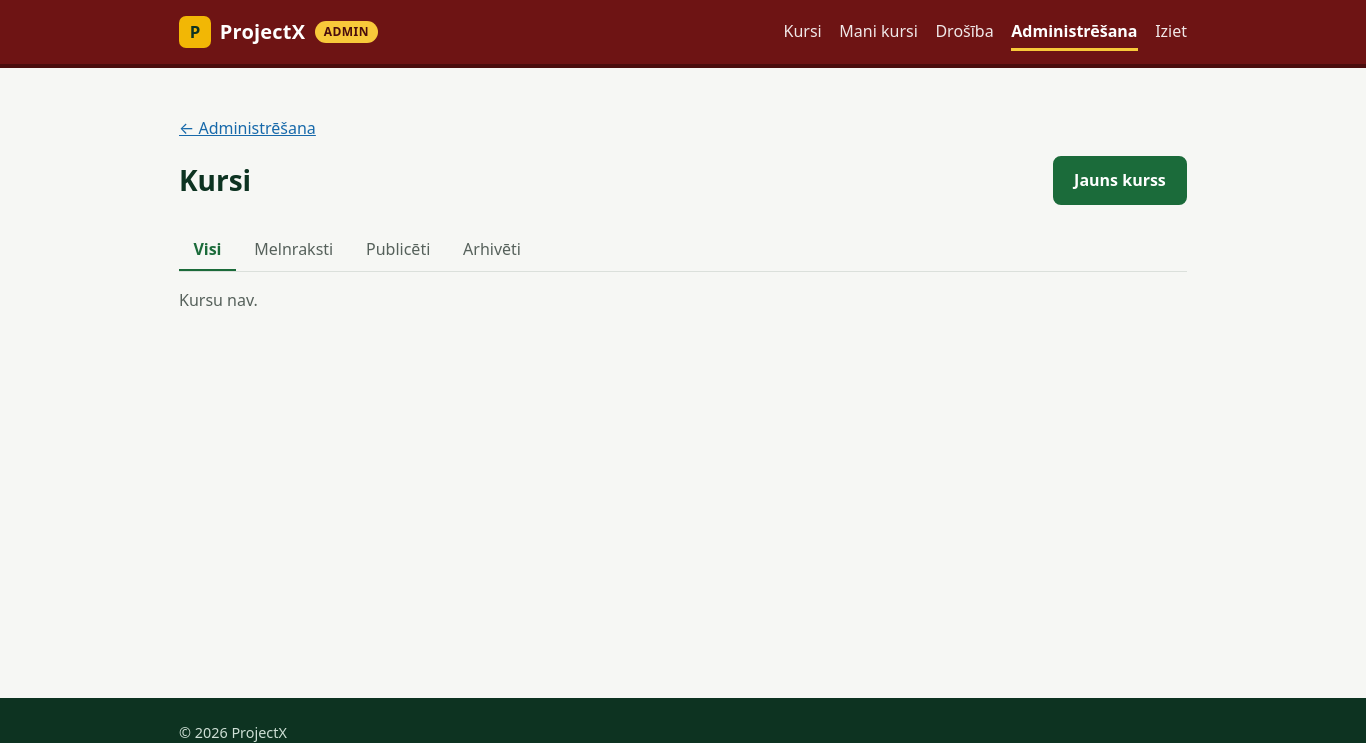
Test: admin courses › refuses a price that is not a euro amount
Step 1. Click the button "Jauns kurss" → (1120, 180), box [1053, 156, 1187, 205]
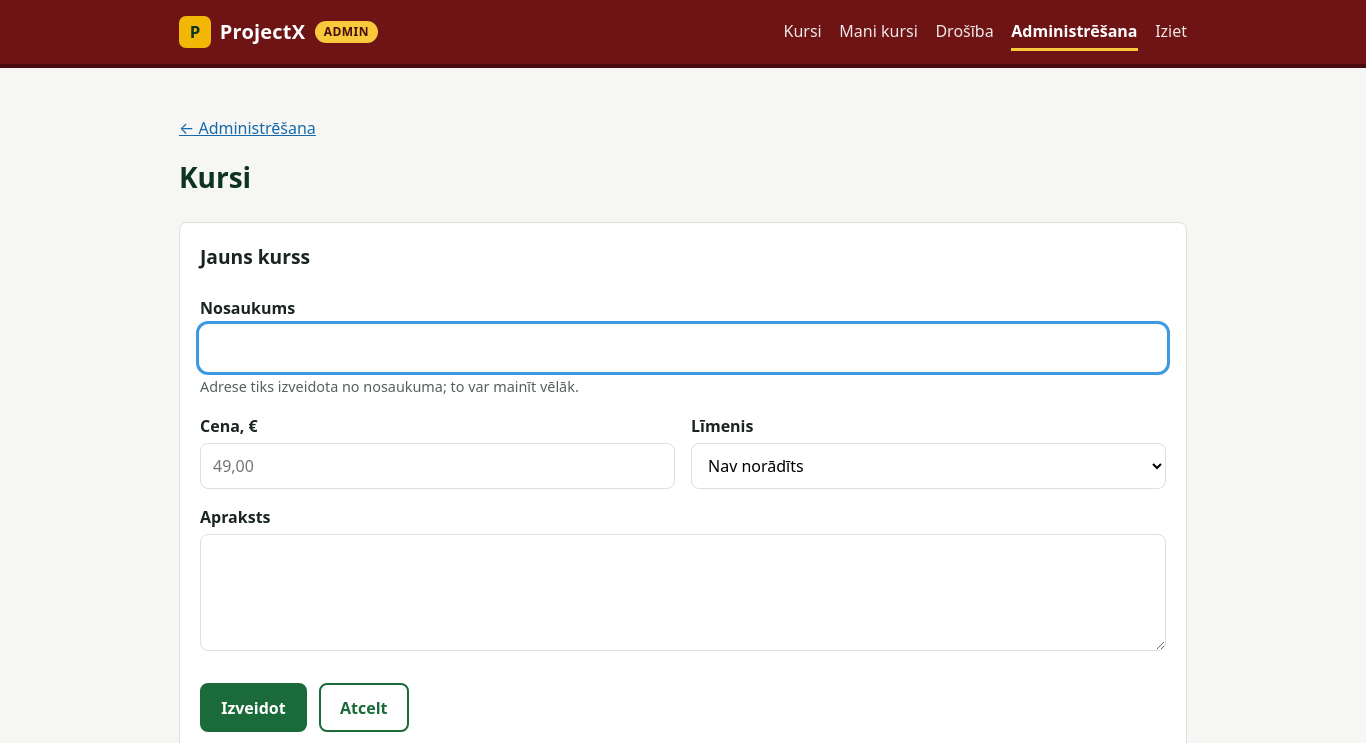
Step 2. Type "Kurss" into the field labelled "Nosaukums" → (683, 348), box [200, 325, 1166, 371]
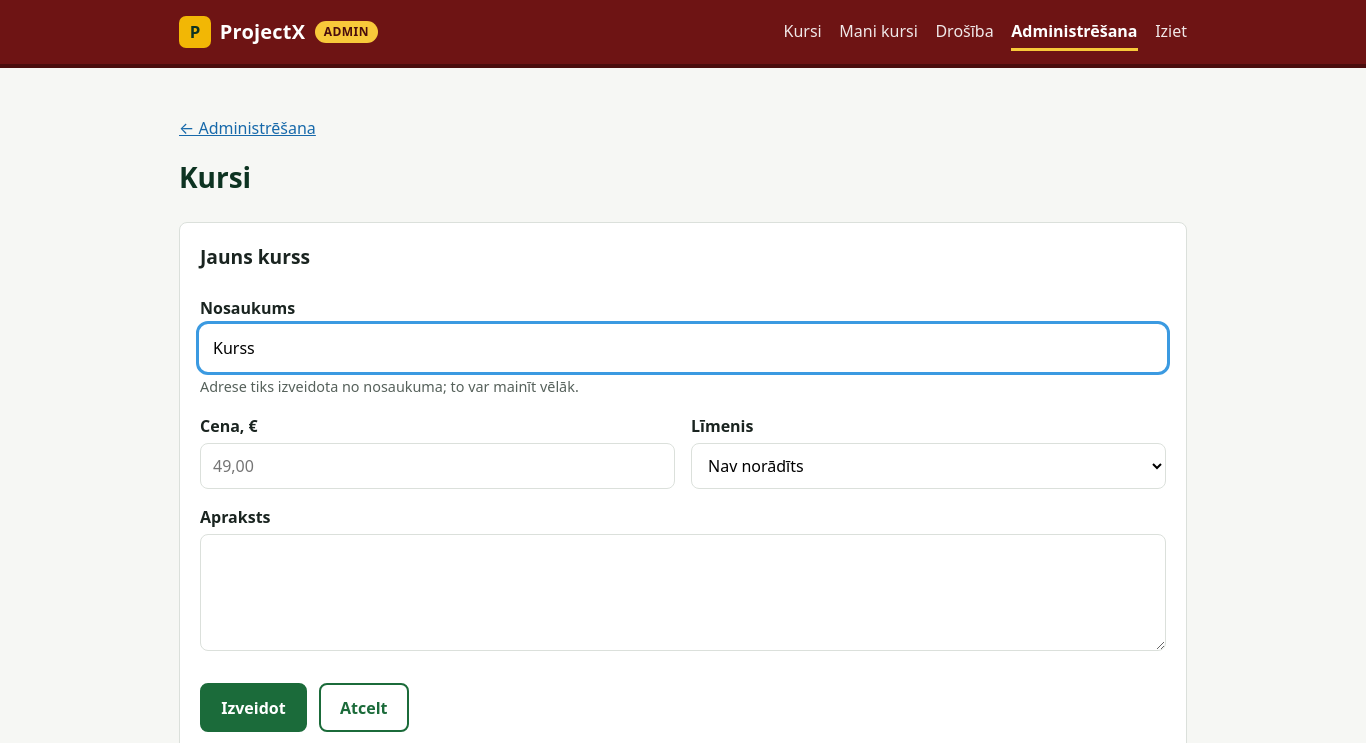
Step 3. Type "49 eiro" into the field labelled "Cena, €" → (438, 466), box [200, 443, 675, 489]
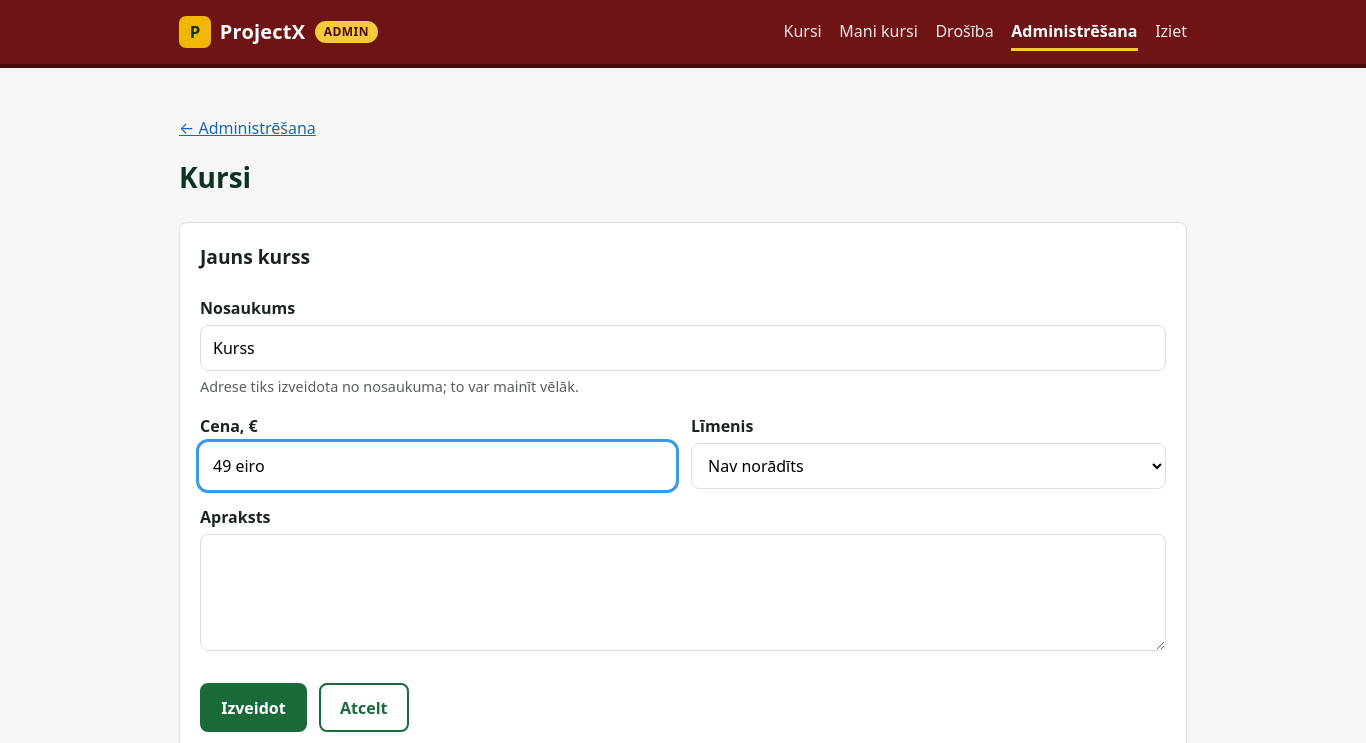
Step 4. Click the button "Izveidot" → (253, 708), box [200, 683, 307, 732]
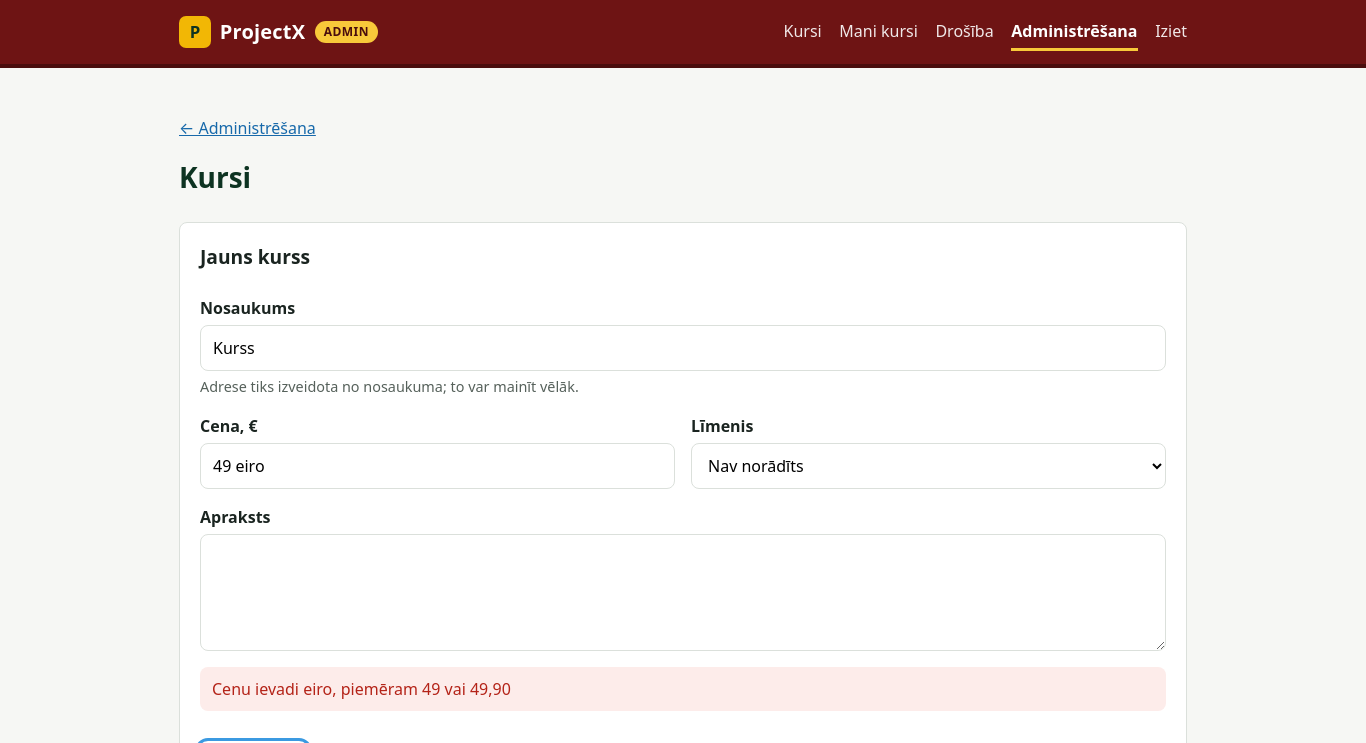
Result: the message shows "Cenu ievadi eiro" at [212, 678, 511, 700]
